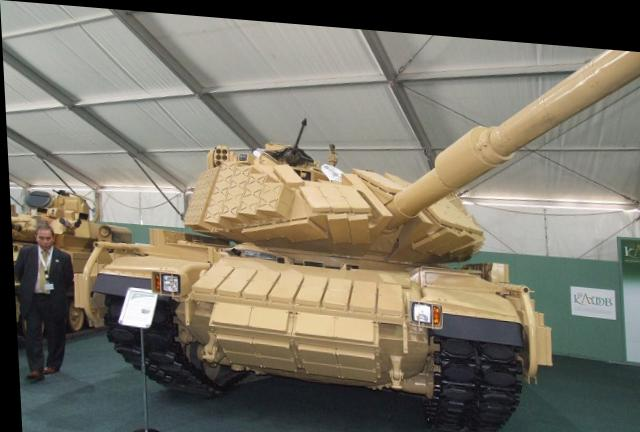other: (9, 213, 80, 389)
tank: (93, 141, 537, 429)
